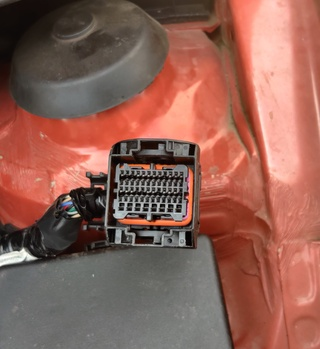connector: (104, 139, 201, 249)
